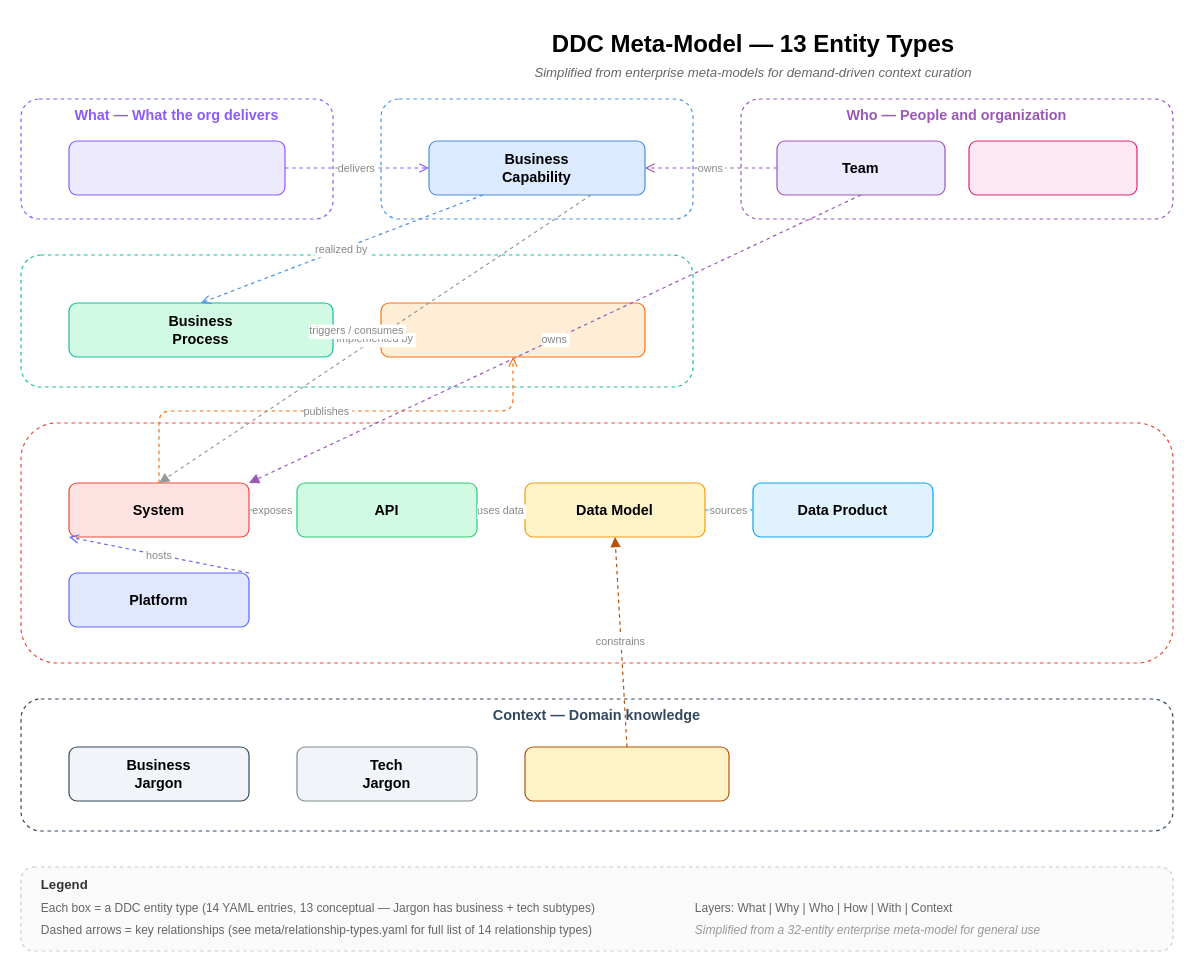
Image size: 1194x972. Some labels were removed from this diagram. The box of each missing label's shape, as (x1, y1, x2, y2) in pixels:
Architecture Decision (ADR): (524, 746, 729, 801)
Business Event: (380, 302, 645, 357)
How — Processes and events: (20, 254, 693, 387)
Offering: (68, 140, 285, 195)
Persona: (968, 140, 1137, 195)
Why — Business strategy: (380, 98, 693, 219)
With — Technology: (20, 422, 1173, 663)
